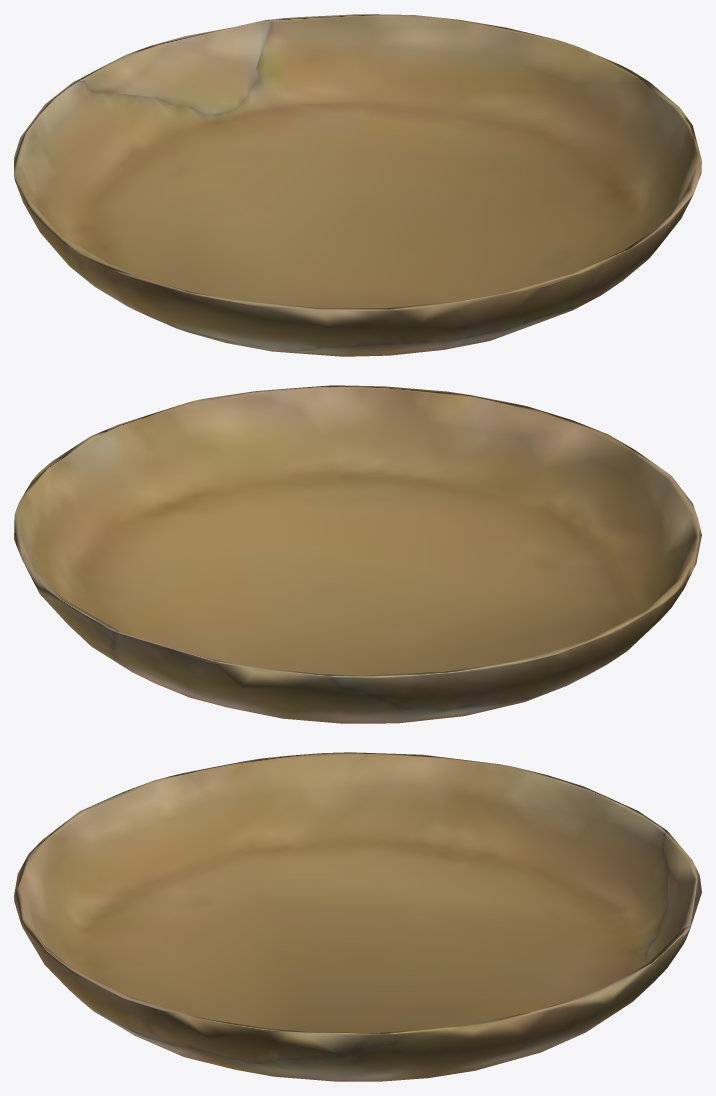
The model's file is Ecoforms_Plant_Container_S24NATURAL-medium.glb.
3 renders of one model, top to bottom at view 1: azimuth 30°, elevation 25°; view 2: azimuth 150°, elevation 25°; view 3: azimuth 270°, elevation 25°, orthographic.
Parts seen in each view (by area): view 1: Ecoforms_Plant_Container_S24NATURAL; view 2: Ecoforms_Plant_Container_S24NATURAL; view 3: Ecoforms_Plant_Container_S24NATURAL.
Boxes of the visible parts, <box> form: Ecoforms_Plant_Container_S24NATURAL: <box>14,14,701,356</box>; Ecoforms_Plant_Container_S24NATURAL: <box>14,385,701,723</box>; Ecoforms_Plant_Container_S24NATURAL: <box>14,752,701,1081</box>.
Size of the model in its own units: 0.2413 by 0.033 by 0.2408.
1 material, 1 textured.
